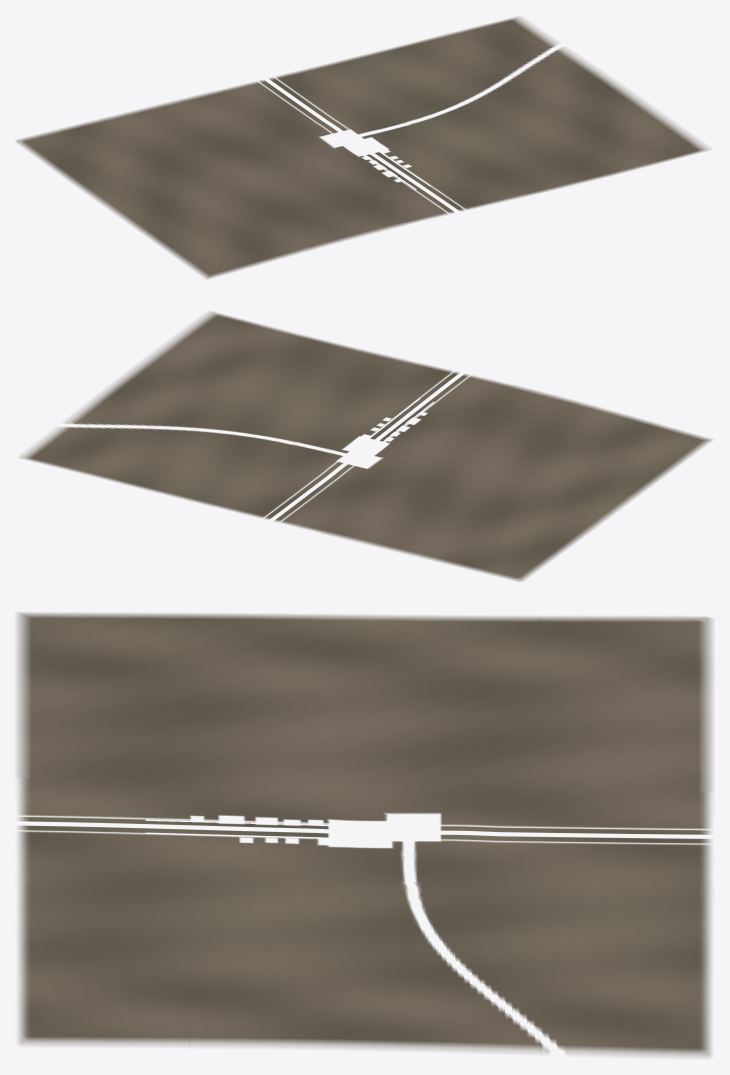
The model's file is Caliche_Nature_Ground.glb.
3 renders of one model, top to bottom at view 1: azimuth 30°, elevation 25°; view 2: azimuth 150°, elevation 25°; view 3: azimuth 270°, elevation 25°, orthographic. The views are drawn at different scales.
Visible parts, largest first — view 1: SM_CN_Terrain_5_2, SM_CN_Terrain_0_2, SM_CN_Terrain_0_3, SM_CN_Terrain_0_1, SM_CN_Terrain_1_3, SM_CN_Terrain_4_2, SM_CN_Terrain_1_1, SM_CN_Terrain_1_2, SM_CN_Terrain_5_3, SM_CN_Terrain_0_0, SM_CN_Terrain_1_0, SM_CN_Terrain_4_0 (+12 smaller); view 2: SM_CN_Terrain_1_2, SM_CN_Terrain_1_1, SM_CN_Terrain_5_2, SM_CN_Terrain_0_2, SM_CN_Terrain_4_2, SM_CN_Terrain_1_3, SM_CN_Terrain_0_1, SM_CN_Terrain_5_1, SM_CN_Terrain_0_3, SM_CN_Terrain_1_0, SM_CN_Terrain_5_3, SM_CN_Terrain_5_0 (+12 smaller); view 3: SM_CN_Terrain_1_1, SM_CN_Terrain_1_0, SM_CN_Terrain_1_2, SM_CN_Terrain_4_2, SM_CN_Terrain_4_3, SM_CN_Terrain_5_2, SM_CN_Terrain_0_0, SM_CN_Terrain_4_0, SM_CN_Terrain_5_0, SM_CN_Terrain_0_1, SM_CN_Terrain_1_3, SM_CN_Terrain_5_3 (+16 smaller).
Boxes of the visible parts, left/top/right/bottom form: SM_CN_Terrain_5_2: left=530, top=82, right=661, bottom=138; SM_CN_Terrain_0_2: left=111, top=188, right=241, bottom=244; SM_CN_Terrain_0_3: left=160, top=222, right=288, bottom=279; SM_CN_Terrain_0_1: left=63, top=154, right=192, bottom=209; SM_CN_Terrain_1_3: left=242, top=200, right=373, bottom=255; SM_CN_Terrain_4_2: left=447, top=104, right=577, bottom=159; SM_CN_Terrain_1_1: left=145, top=133, right=277, bottom=187; SM_CN_Terrain_1_2: left=193, top=166, right=325, bottom=221; SM_CN_Terrain_5_3: left=579, top=116, right=708, bottom=171; SM_CN_Terrain_0_0: left=16, top=120, right=143, bottom=174; SM_CN_Terrain_1_0: left=98, top=99, right=228, bottom=153; SM_CN_Terrain_4_0: left=351, top=37, right=480, bottom=91; SM_CN_Terrain_1_2: left=451, top=430, right=582, bottom=488; SM_CN_Terrain_1_1: left=403, top=468, right=534, bottom=525; SM_CN_Terrain_5_2: left=117, top=347, right=247, bottom=405; SM_CN_Terrain_0_2: left=535, top=452, right=665, bottom=510; SM_CN_Terrain_4_2: left=200, top=369, right=330, bottom=427; SM_CN_Terrain_1_3: left=499, top=393, right=630, bottom=451; SM_CN_Terrain_0_1: left=487, top=489, right=616, bottom=546; SM_CN_Terrain_5_1: left=68, top=383, right=199, bottom=442; SM_CN_Terrain_0_3: left=584, top=416, right=712, bottom=474; SM_CN_Terrain_1_0: left=355, top=505, right=485, bottom=561; SM_CN_Terrain_5_3: left=165, top=312, right=294, bottom=368; SM_CN_Terrain_5_0: left=20, top=422, right=150, bottom=478; SM_CN_Terrain_1_1: left=365, top=684, right=540, bottom=759; SM_CN_Terrain_1_0: left=540, top=687, right=712, bottom=762; SM_CN_Terrain_1_2: left=189, top=681, right=364, bottom=756; SM_CN_Terrain_4_2: left=189, top=903, right=364, bottom=976; SM_CN_Terrain_4_3: left=18, top=899, right=189, bottom=974; SM_CN_Terrain_5_2: left=189, top=974, right=364, bottom=1047; SM_CN_Terrain_0_0: left=540, top=616, right=712, bottom=688; SM_CN_Terrain_4_0: left=540, top=909, right=711, bottom=982; SM_CN_Terrain_5_0: left=540, top=980, right=711, bottom=1056; SM_CN_Terrain_0_1: left=365, top=615, right=540, bottom=686; SM_CN_Terrain_1_3: left=17, top=679, right=189, bottom=751; SM_CN_Terrain_5_3: left=18, top=972, right=189, bottom=1045.
Bounding box in the file's own units: 1209 × 19.76 × 800.
Materials: 2 (2 with a texture image).
